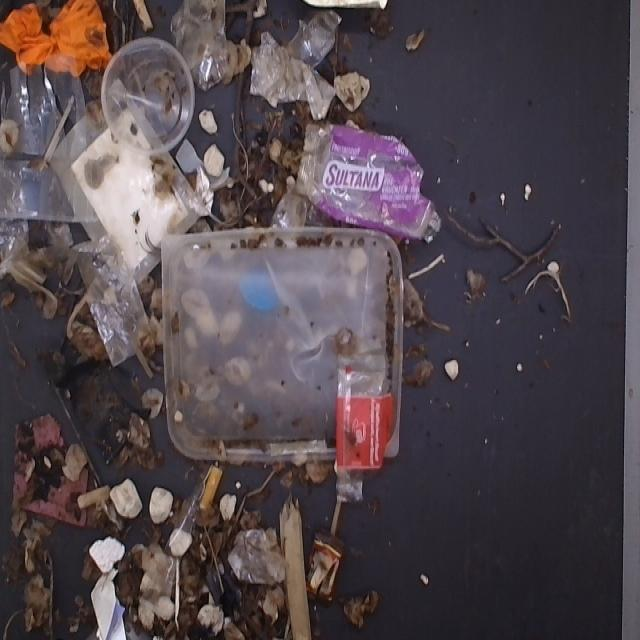cigarette_butts: (201, 460, 227, 512)
food_packaging: (147, 214, 432, 476), (298, 115, 442, 252)
food_wrapping: (328, 347, 404, 499), (85, 540, 143, 640), (312, 531, 354, 599)
pet_pottles: (0, 46, 114, 230), (95, 37, 208, 152)
plastic_cups: (247, 0, 337, 116), (158, 0, 253, 91)
plastic_films: (68, 235, 152, 360)
